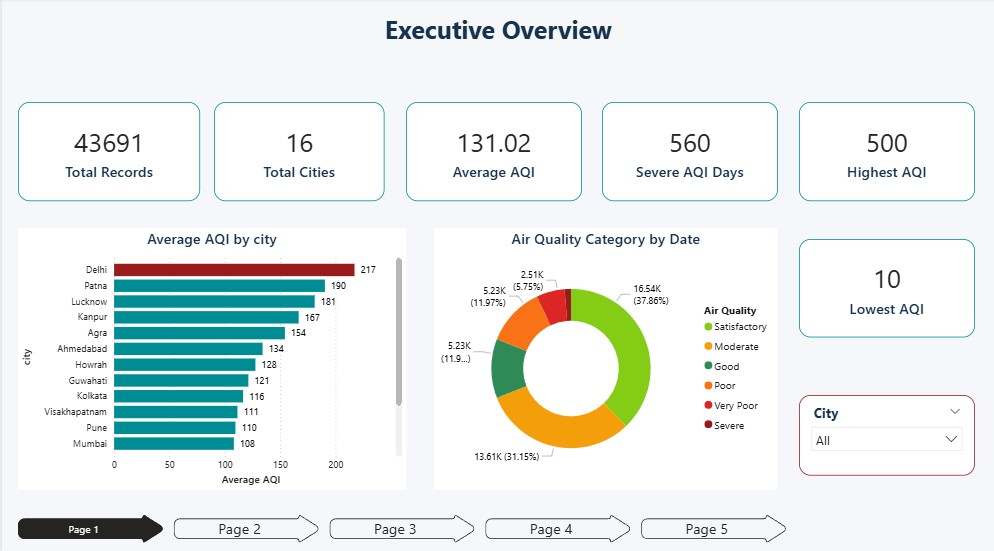

Layout of this report page (visuals, bound fields, positions):
{"tool":"powerbi","page":{"name":"Page 1","canvas":[1280,720],"ordinal":0},"visuals":[{"type":"textbox","box":[337.6,13.4,604.7,70.6],"z":0},{"type":"card","fields":{"Values":["finalized_data.Total Records"]},"box":[20.2,134.4,235.2,127.7],"z":1000},{"type":"card","fields":{"Values":["finalized_data.Total Cities"]},"box":[273.8,134.4,220.1,127.7],"z":2000},{"type":"card","fields":{"Values":["finalized_data.Average AQI"]},"box":[520.7,134.4,226.8,127.7],"z":3000},{"type":"card","fields":{"Values":["finalized_data.Highest AQI"]},"box":[1028,134.4,226.8,127.7],"z":4000},{"type":"card","fields":{"Values":["finalized_data.Severe AQI Days"]},"box":[774.4,134.4,226.8,127.7],"z":5000},{"type":"clusteredBarChart","fields":{"Category":["finalized_data.city"],"Y":["finalized_data.Average AQI"]},"box":[20.2,297.3,500.6,337.6],"z":6000},{"type":"donutChart","title":"Air Quality Category by Date","fields":{"Y":["CountNonNull(finalized_data.date)"],"Category":["finalized_data.Air Quality"]},"box":[557.7,297.3,443.5,337.6],"z":7000},{"type":"slicer","fields":{"Values":["finalized_data.city"]},"box":[1028,512.3,226.8,104.1],"z":8000},{"type":"pageNavigator","box":[20.2,665.2,999.5,38.6],"z":9000},{"type":"card","fields":{"Values":["finalized_data.Lowest AQI"]},"box":[1028,310.8,226.8,127],"z":10000}]}

Visuals, with their boxes in screenshot pixels (x1, y1, x2, y2), scaled from the page's 1280x720 canvas onto the 994x551 screenshot:
textbox: pyautogui.locateOnScreen(262, 10, 732, 64)
card - finalized_data.Total Records: pyautogui.locateOnScreen(16, 103, 198, 201)
card - finalized_data.Total Cities: pyautogui.locateOnScreen(213, 103, 384, 201)
card - finalized_data.Average AQI: pyautogui.locateOnScreen(404, 103, 580, 201)
card - finalized_data.Highest AQI: pyautogui.locateOnScreen(798, 103, 974, 201)
card - finalized_data.Severe AQI Days: pyautogui.locateOnScreen(601, 103, 777, 201)
clusteredBarChart - finalized_data.city x finalized_data.Average AQI: pyautogui.locateOnScreen(16, 228, 404, 486)
"Air Quality Category by Date" donutChart: pyautogui.locateOnScreen(433, 228, 777, 486)
slicer - finalized_data.city: pyautogui.locateOnScreen(798, 392, 974, 472)
pageNavigator: pyautogui.locateOnScreen(16, 509, 792, 539)
card - finalized_data.Lowest AQI: pyautogui.locateOnScreen(798, 238, 974, 335)
